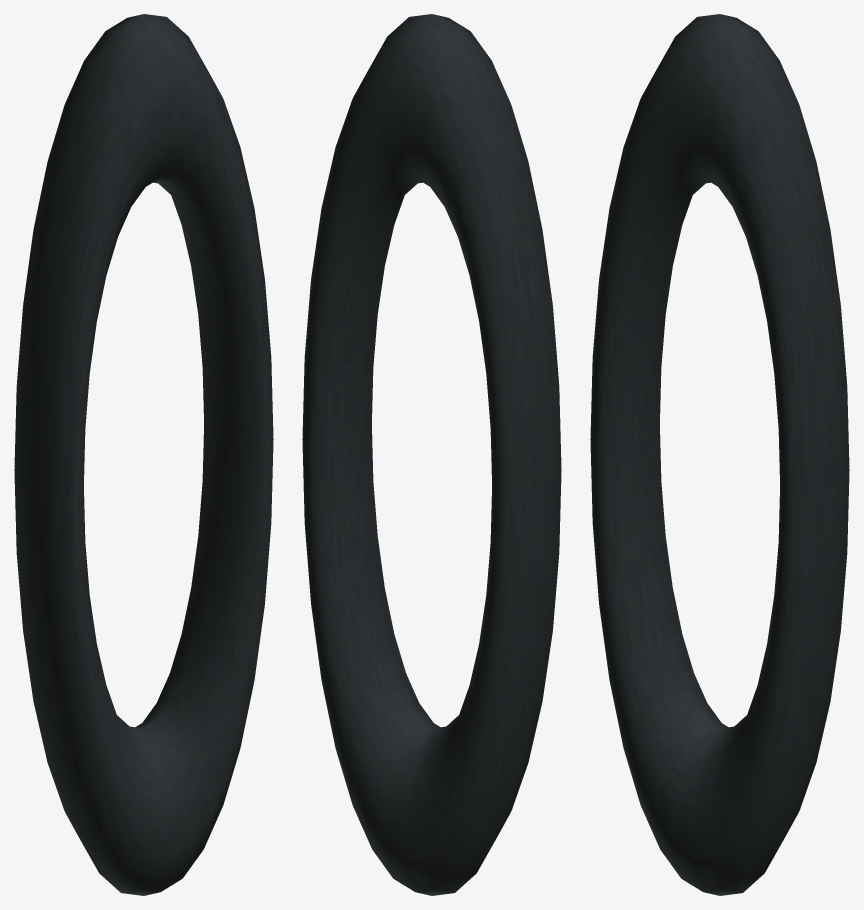
Rendered from shoulder-strap.glb.
The picture shows the model from 3 angles, left to right: view 1: azimuth 30°, elevation 25°; view 2: azimuth 150°, elevation 25°; view 3: azimuth 330°, elevation 25°; orthographic projection.
Visible parts, largest first — view 1: loop; view 2: loop; view 3: loop.
Part boxes in pixels (x1,y1,x2,y2): loop: (14,14,273,895); loop: (302,14,561,895); loop: (590,14,849,895).
Size of the model in its own units: 0.1 by 0.36 by 0.04.
Materials: 1 (1 with a texture image).
